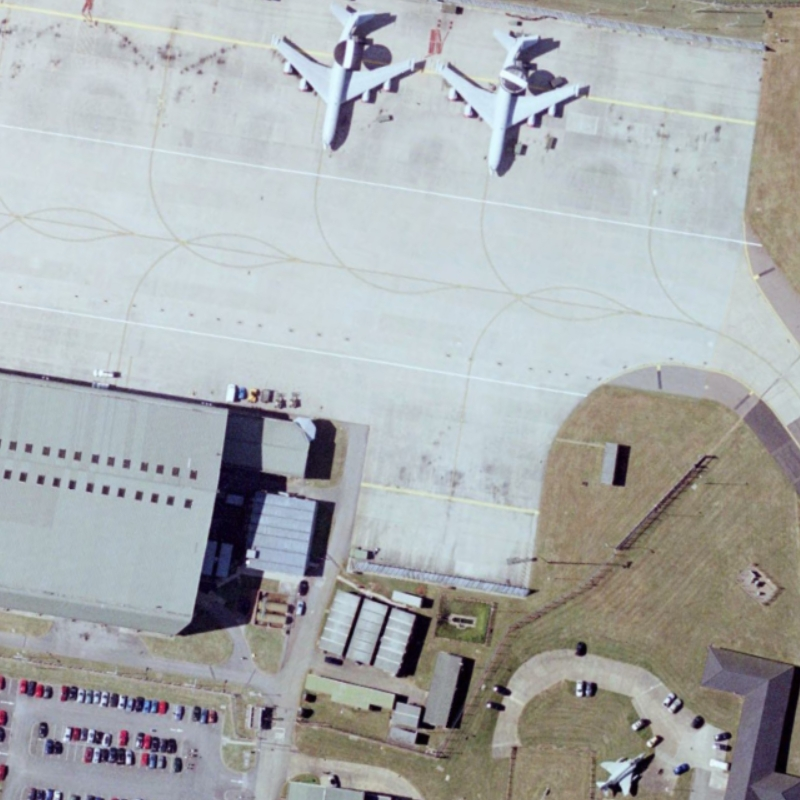A7: (440, 17, 598, 180), (265, 2, 429, 156)
